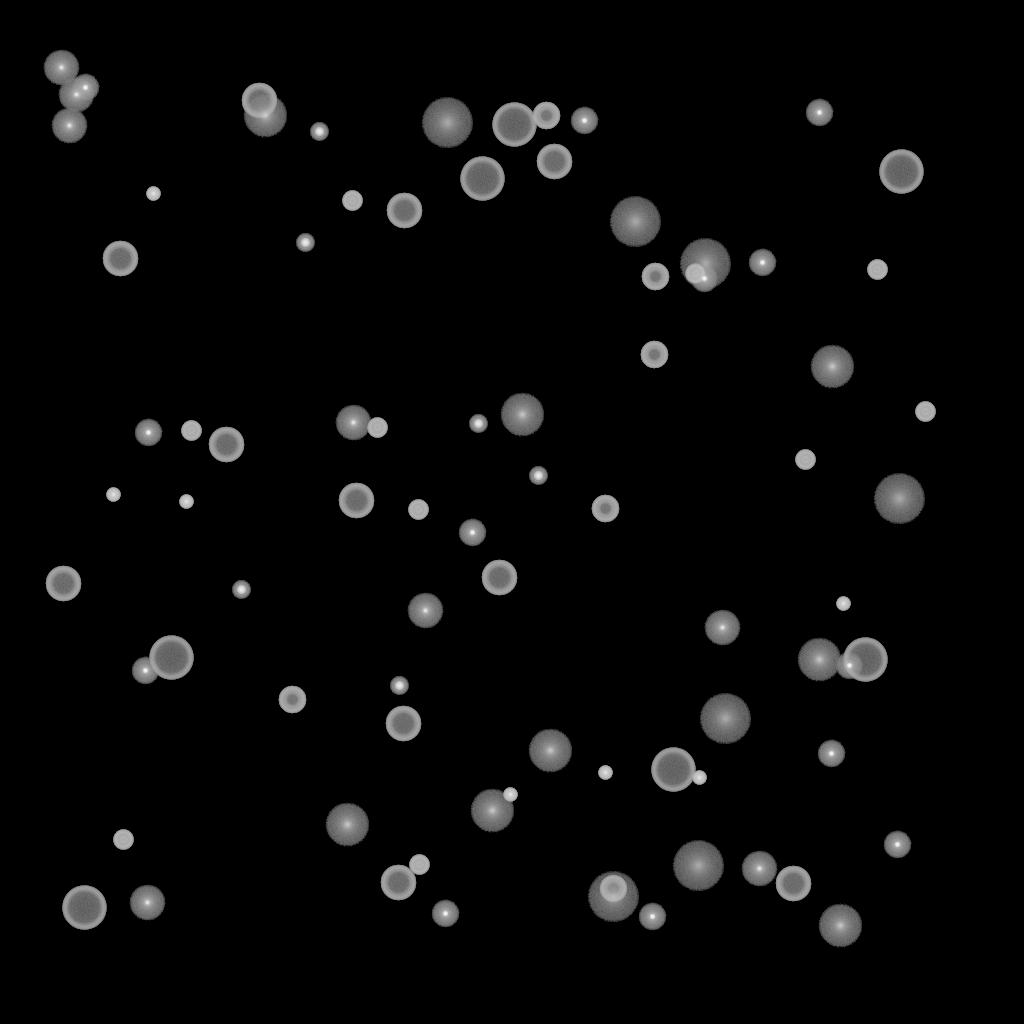depth:-10: (131, 657, 159, 685), (690, 265, 718, 293), (431, 900, 459, 928), (71, 74, 99, 102), (638, 903, 666, 931), (134, 419, 162, 447), (883, 831, 911, 859), (570, 107, 598, 135), (458, 519, 486, 547), (805, 99, 833, 127), (748, 249, 776, 277), (817, 740, 845, 768), (835, 652, 863, 680)
depth:-20: (232, 581, 250, 599), (529, 467, 547, 485), (469, 415, 487, 433), (296, 234, 314, 252), (390, 677, 408, 695), (310, 123, 328, 141)
depth:-30: (179, 495, 193, 509), (146, 187, 160, 201), (598, 766, 612, 780), (503, 788, 517, 802), (836, 597, 850, 611), (692, 771, 706, 785), (106, 488, 120, 502)
depth:-40: (409, 855, 429, 875), (795, 450, 815, 470), (181, 421, 201, 441), (685, 264, 705, 284), (408, 500, 428, 520), (367, 418, 387, 438), (342, 191, 362, 211), (867, 260, 887, 280), (113, 830, 133, 850), (915, 402, 935, 422)
depth:-50: (591, 495, 619, 523), (278, 686, 306, 714), (599, 875, 627, 903), (532, 102, 560, 130), (641, 263, 669, 291), (640, 341, 668, 369)
depth:-60: (481, 560, 517, 596), (241, 83, 277, 119), (45, 566, 81, 602), (536, 144, 572, 180), (208, 427, 244, 463), (775, 866, 811, 902), (386, 193, 422, 229), (102, 241, 138, 277), (338, 483, 374, 519), (380, 865, 416, 901), (385, 706, 421, 742)
depth:-70: (492, 103, 536, 147), (62, 886, 106, 930), (149, 636, 193, 680), (651, 748, 695, 792), (460, 157, 504, 201), (879, 150, 923, 194), (843, 638, 887, 682)
depth:0: (335, 405, 371, 441), (51, 108, 87, 144), (741, 851, 777, 887), (407, 593, 443, 629), (43, 50, 79, 86), (58, 77, 94, 113), (129, 885, 165, 921), (704, 610, 740, 646)
depth:10: (797, 638, 841, 682), (500, 393, 544, 437), (810, 345, 854, 389), (470, 789, 514, 833), (325, 803, 369, 847), (818, 904, 862, 948), (243, 94, 287, 138), (528, 729, 572, 773)
depth:20: (699, 694, 751, 744), (679, 239, 731, 289), (873, 474, 925, 524), (421, 98, 473, 148), (672, 841, 724, 891), (587, 872, 639, 922), (609, 197, 661, 247)
